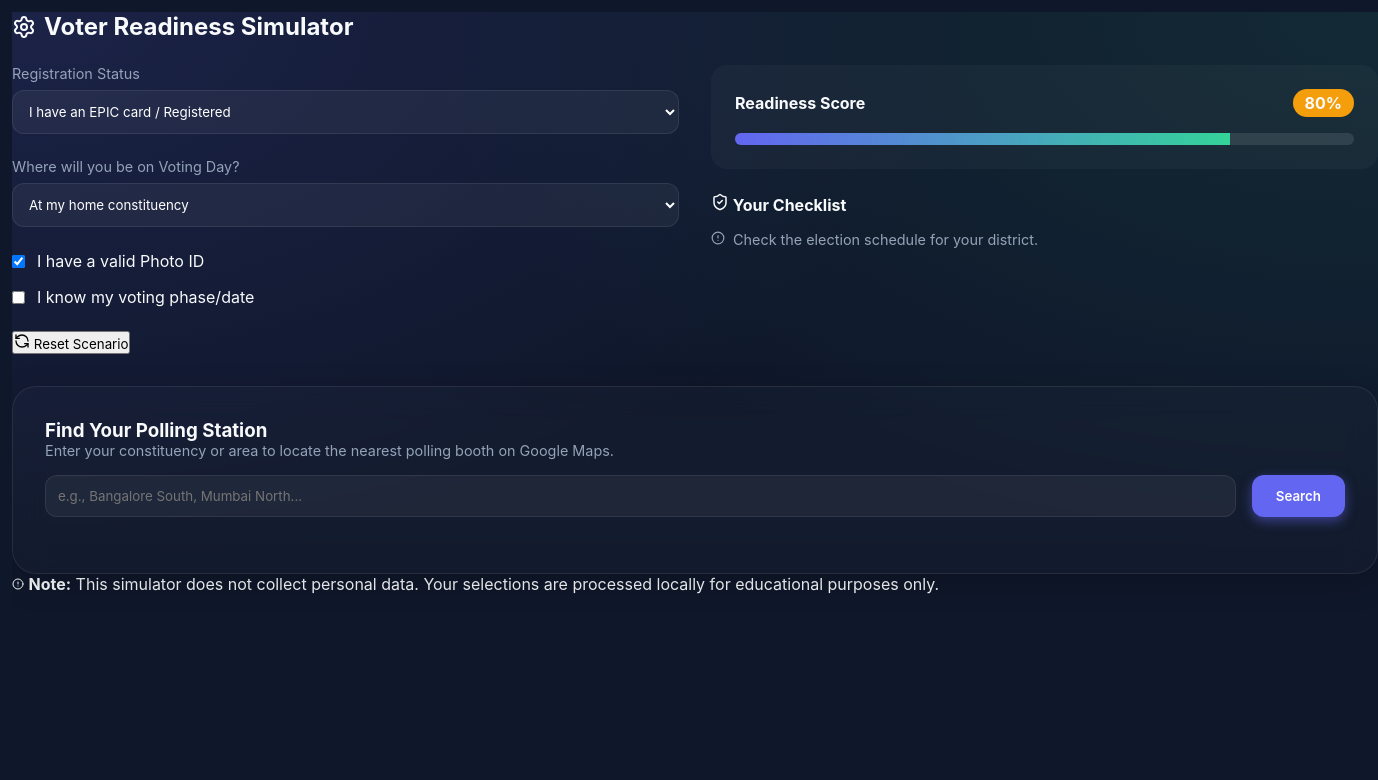
VoterSimulator Component › resets score on reset button click
Click the checkbox labelled "I have a valid Photo ID": (18, 261) [12,254,25,268]
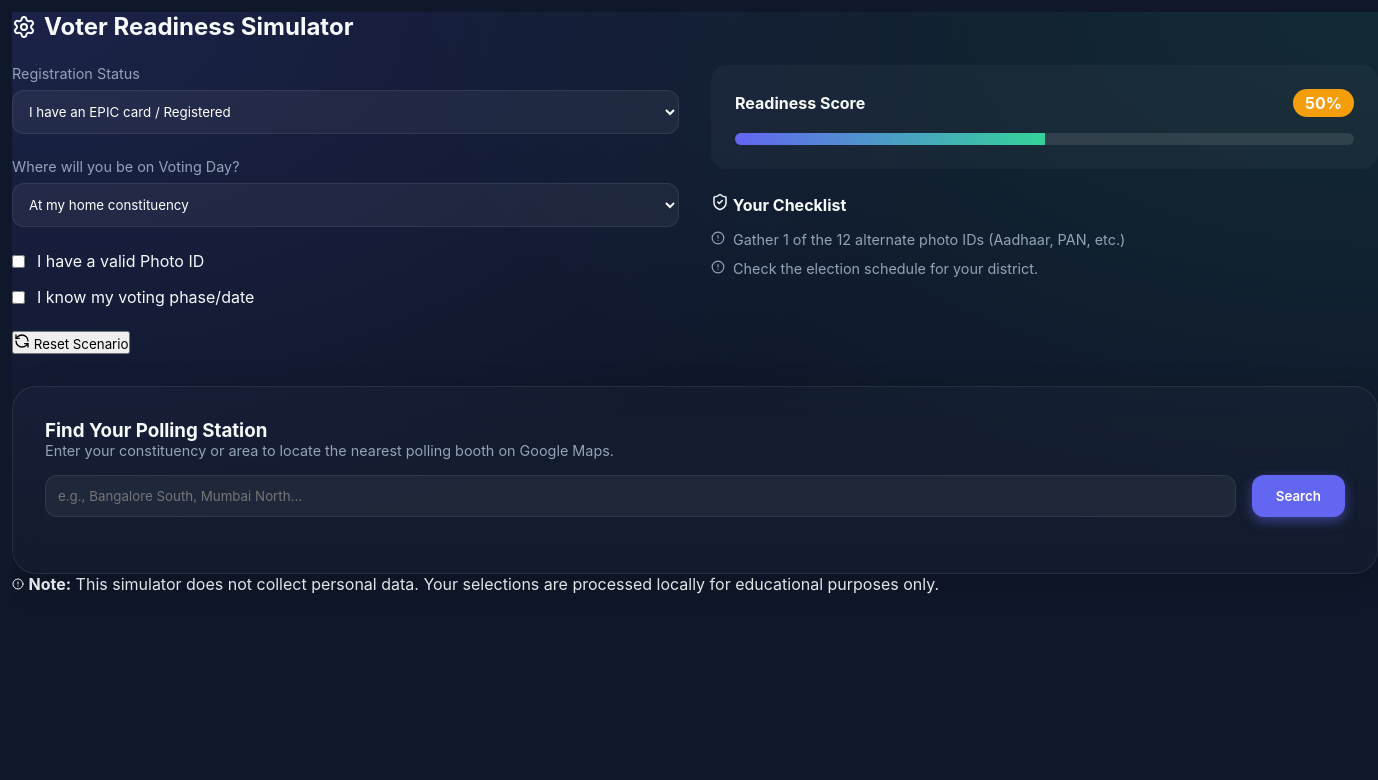
Click the button with aria-label "Reset all simulator inputs": (71, 342) [12,331,130,354]
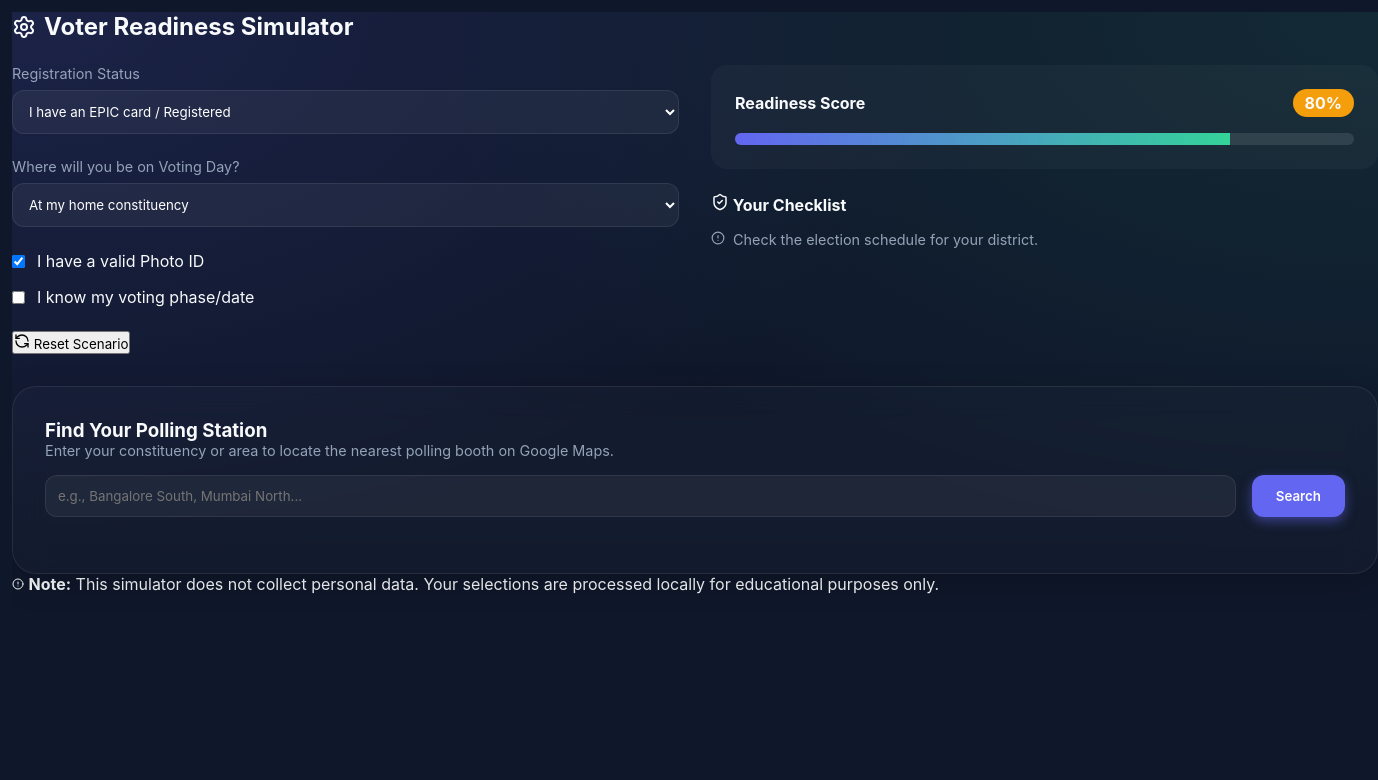
Check: the text "80%" is shown, box [1292,89,1354,117]
